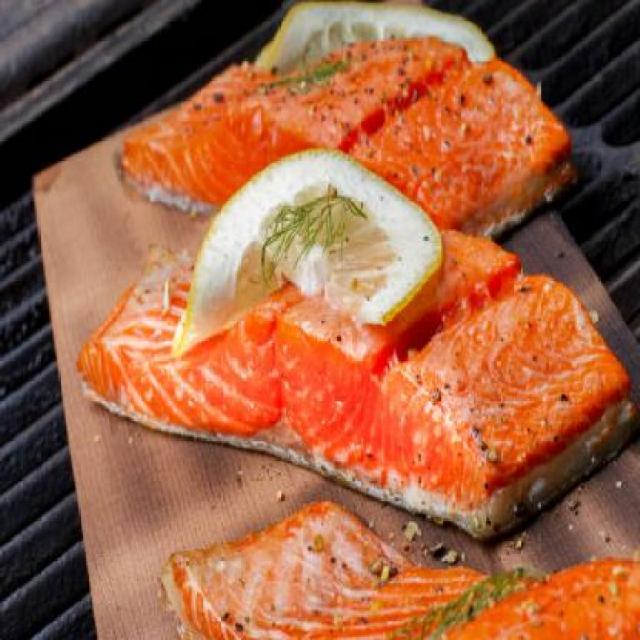salmon: (67, 180, 640, 531), (119, 28, 586, 258)
